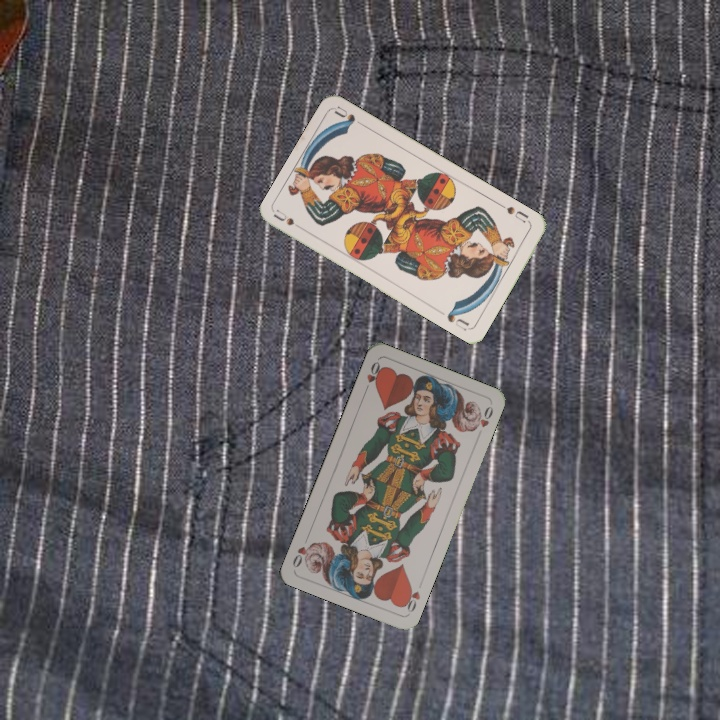HO: (399, 577, 425, 615), (360, 357, 385, 396)
SU: (496, 200, 531, 225), (271, 206, 297, 228)
